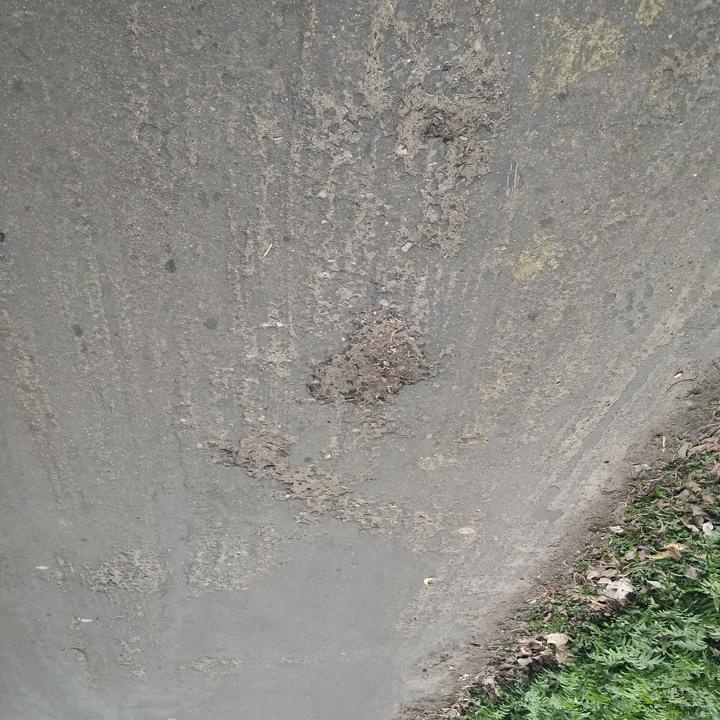pothole: (301, 313, 435, 417), (224, 431, 346, 518), (421, 100, 480, 144)
